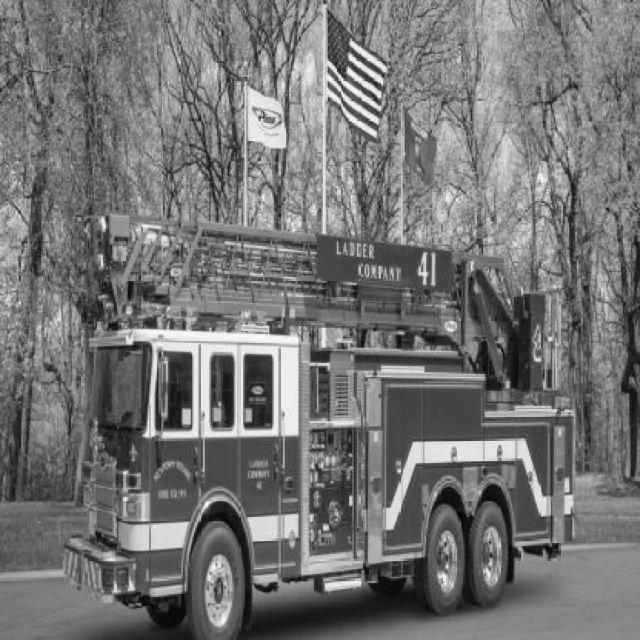Fire Truck: (62, 211, 576, 640)
